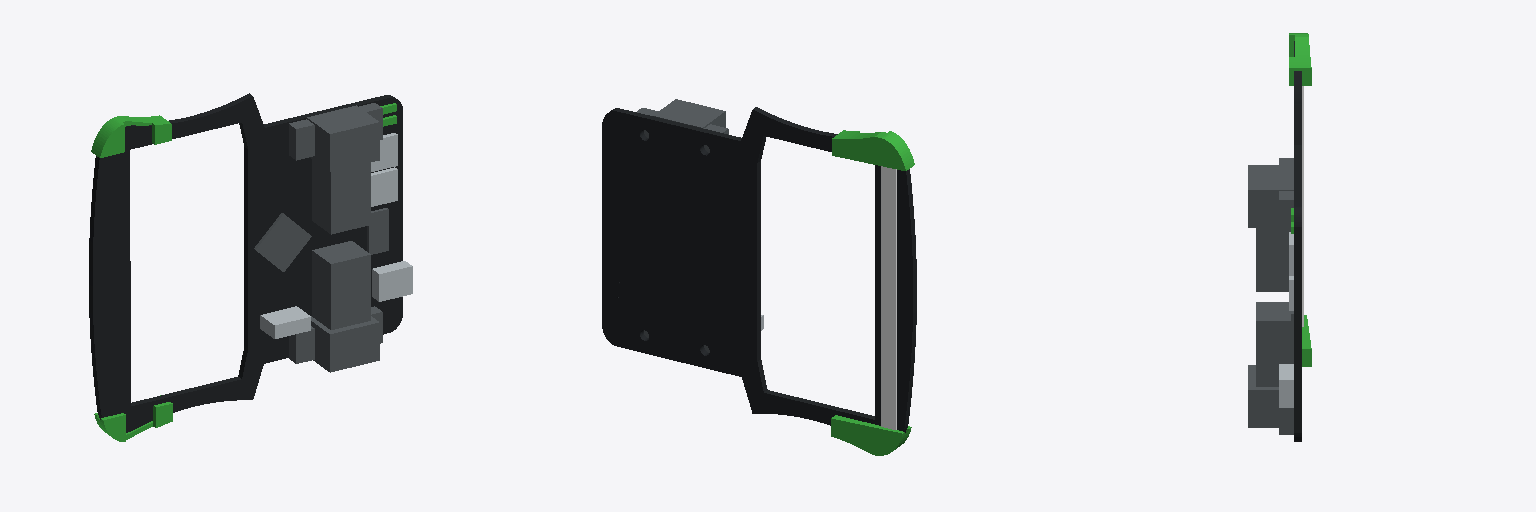
Rendered from motoko_uprising.obj.
3 renders of one model, left to right at view 1: azimuth 30°, elevation 25°; view 2: azimuth 150°, elevation 25°; view 3: azimuth 270°, elevation 25°, orthographic.
Parts seen in each view (by area): view 1: obj_0; view 2: obj_0; view 3: obj_0.
Part boxes in pixels (left/top/right/bottom): obj_0: left=89, top=93, right=412, bottom=441; obj_0: left=602, top=99, right=916, bottom=455; obj_0: left=1248, top=33, right=1311, bottom=441.
Bounding box in the file's own units: 93.92 × 91.56 × 16.5.